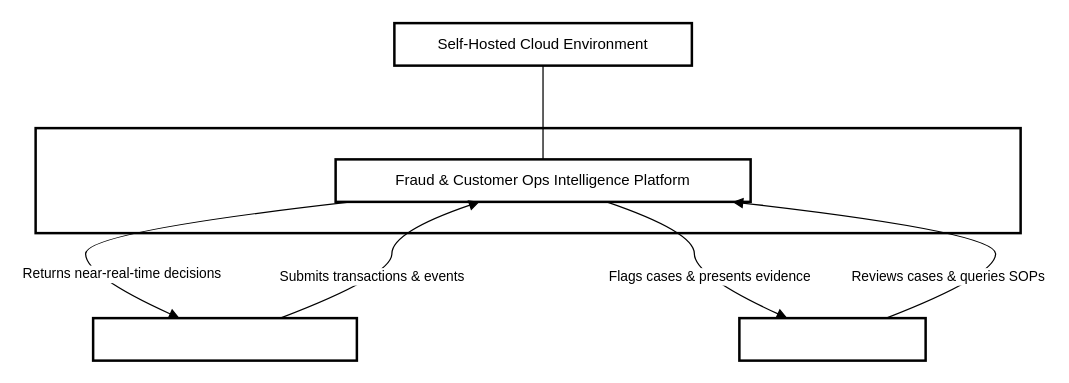
Image size: 1069x383. Some labels were removed from this diagram. Here are the shapes that lost their labels. From the top down, the box of each, then its label:
(91, 316, 358, 361): End User (Mobile/Web App)
(738, 316, 926, 361): Operations Analyst
